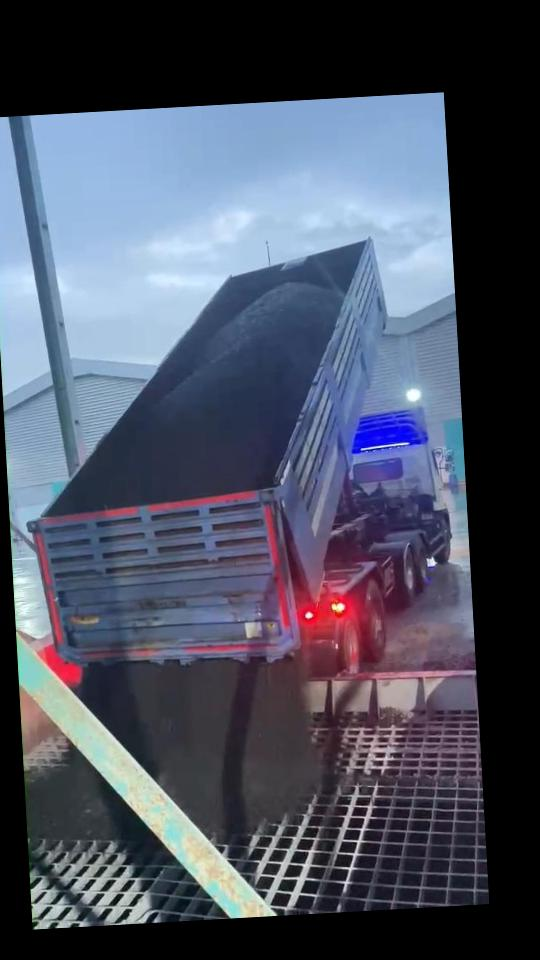gravel: (55, 282, 340, 513), (81, 653, 318, 840), (30, 769, 142, 837)
